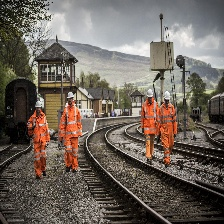helmet: (30, 96, 43, 106), (65, 92, 76, 100), (162, 91, 171, 99), (146, 89, 153, 97)
person: (58, 89, 83, 175), (27, 96, 52, 180), (159, 84, 179, 170), (141, 87, 157, 162)
vest: (57, 106, 84, 143), (25, 109, 51, 147), (160, 104, 177, 140), (142, 101, 159, 135)
